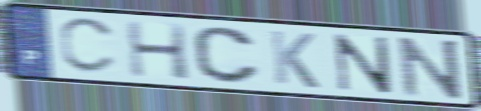C: (190, 25, 264, 86), (56, 16, 119, 77)
H: (122, 18, 193, 82)
K: (266, 27, 322, 91)
N: (395, 35, 466, 101), (332, 31, 395, 95)
